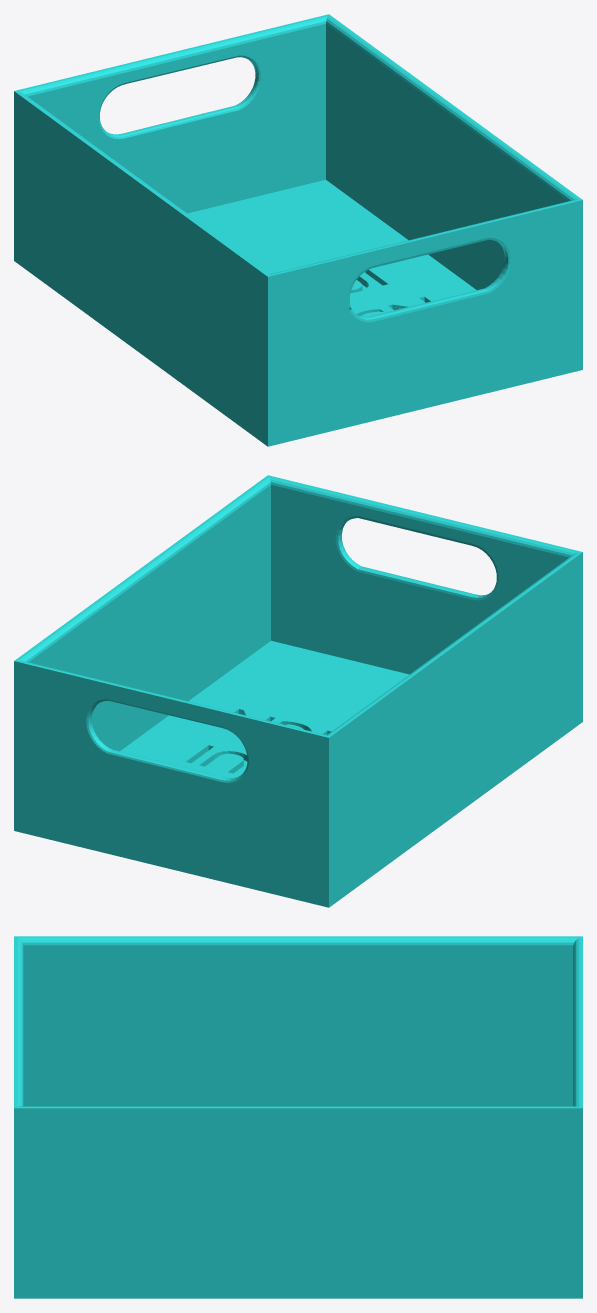
Rendered from MeguiBox.fbx.
The picture shows the model from 3 angles, top to bottom: view 1: azimuth 30°, elevation 25°; view 2: azimuth 150°, elevation 25°; view 3: azimuth 270°, elevation 25°; orthographic projection. The views are drawn at different scales.
Parts seen in each view (by area): view 1: MEguiBox; view 2: MEguiBox; view 3: MEguiBox.
Boxes of the visible parts, x1,y1,x2,y2 form: MEguiBox: (14,14,582,446); MEguiBox: (14,475,582,907); MEguiBox: (14,936,582,1298).
Size of the model in its own units: 23.28 by 11.99 by 32.5.
